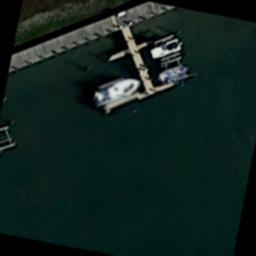boat: (92, 73, 142, 117), (148, 34, 182, 64), (158, 62, 190, 88)
